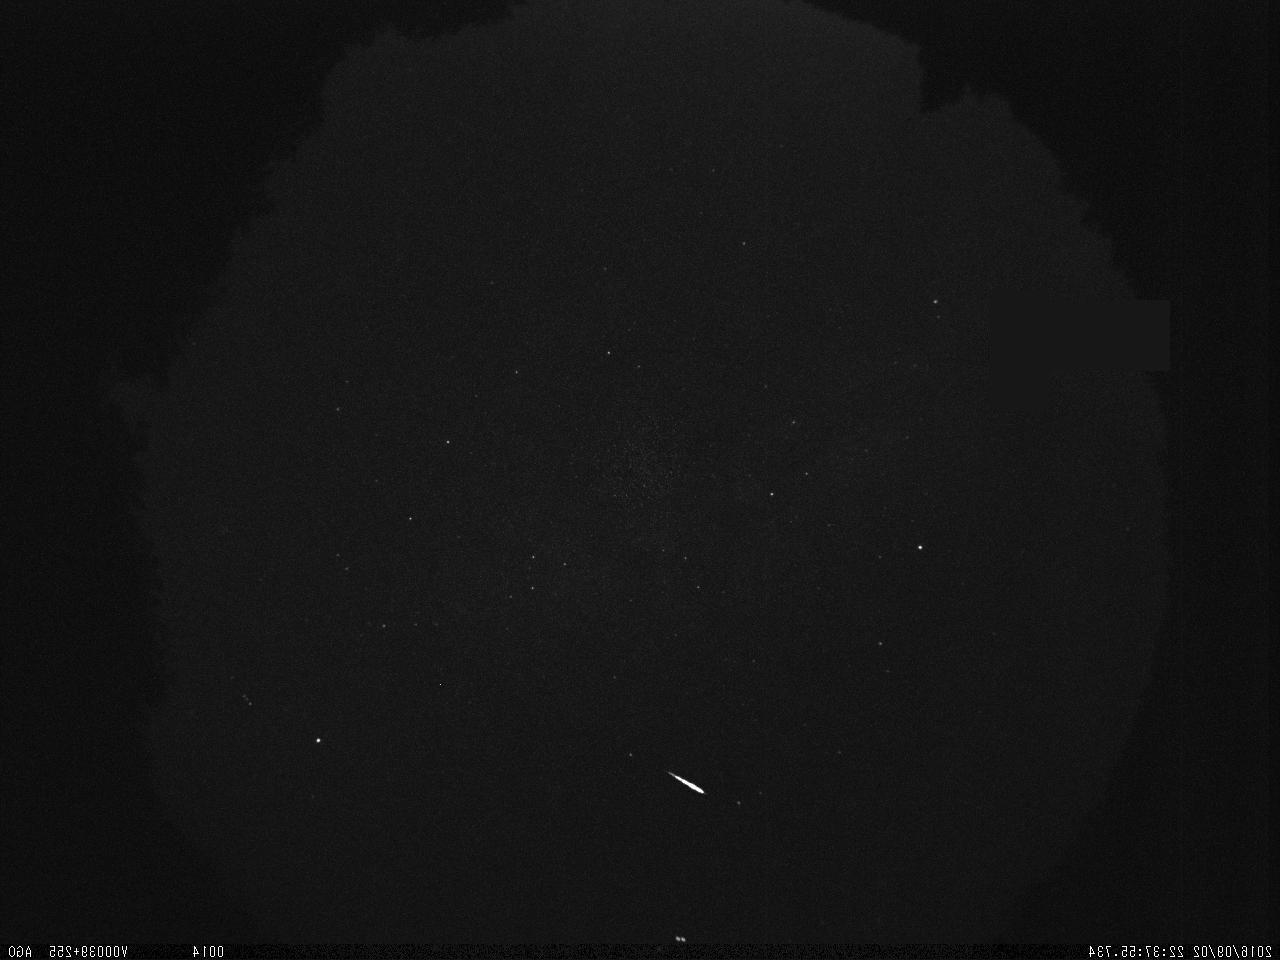meteor: (617, 760, 738, 818)
